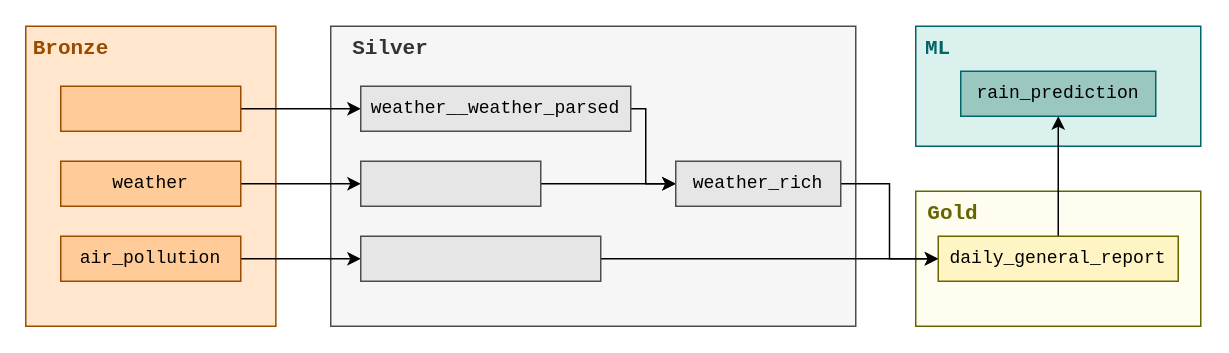
Some shapes in this 1229 by 353 pixel diagram are drawn without their labels. The box of each missing label's shape, as (x1, y1, x2, y2) in pixels:
air_pollution_parsed: (359, 235, 601, 281)
weather__weather: (59, 85, 241, 131)
weather_parsed: (359, 160, 541, 206)
